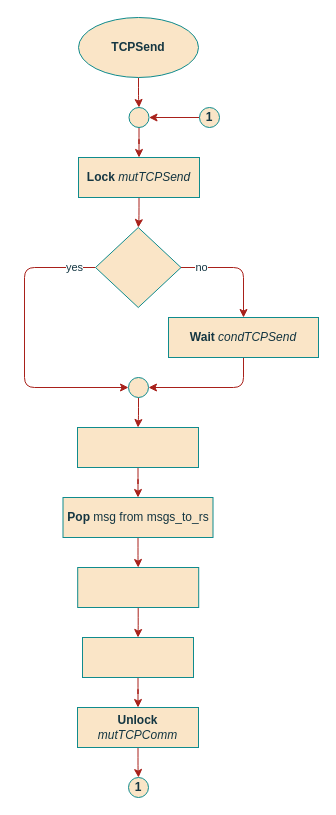
The diagram is 336 pixels wide and 815 high, and some of its shapes have lost their labels. Each missing label, with the centre of its shape:
Is msgs_to_rs empty?: (137,267)
Lock mutTCPComm: (138,587)
TCPSend (msg): (138,657)
Unlock mutTCPSend: (137,447)
